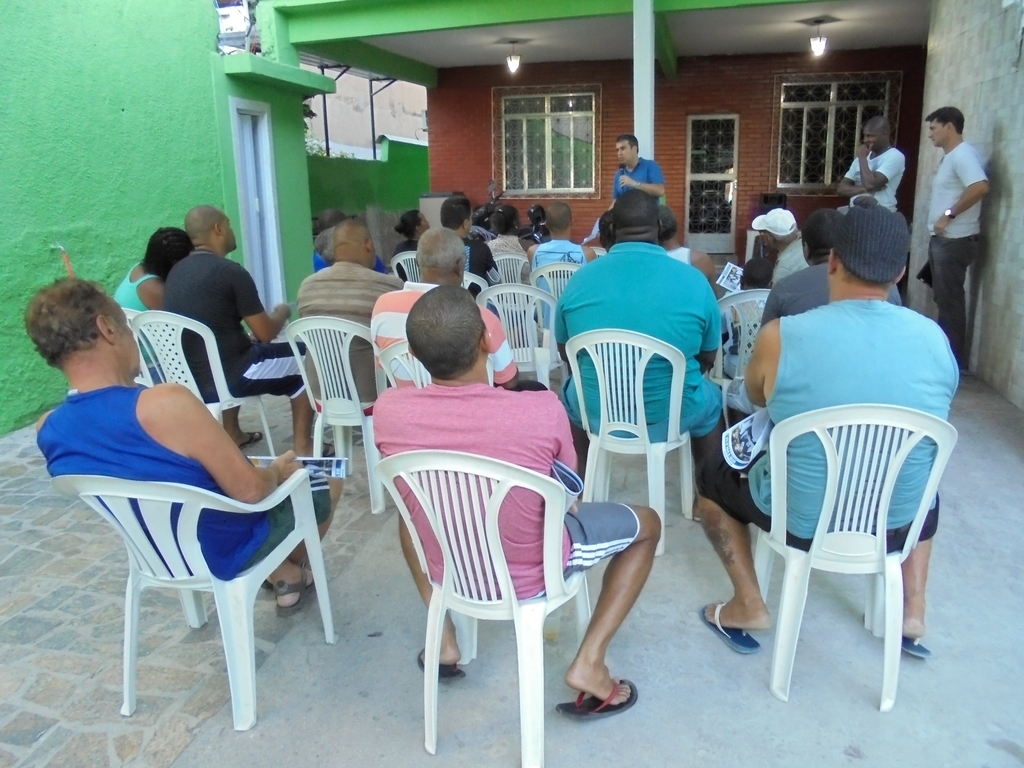Chair: (55, 475, 339, 734), (374, 448, 595, 767), (749, 377, 947, 720), (561, 324, 693, 553), (128, 308, 283, 453), (283, 316, 393, 515), (704, 285, 778, 416), (478, 277, 564, 383), (379, 339, 501, 389), (483, 249, 541, 319), (530, 258, 583, 332), (124, 308, 152, 383), (460, 274, 502, 319), (390, 246, 421, 287), (588, 246, 608, 258)
